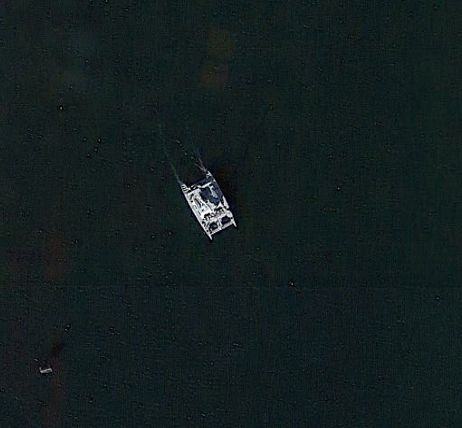boat: (178, 168, 239, 242)
